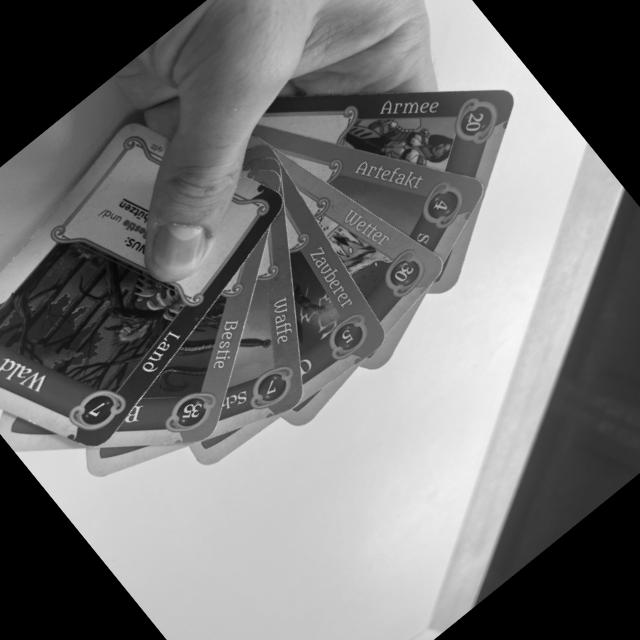Basilisk: (97, 230, 269, 450)
Blizzard: (279, 151, 450, 334)
Elemental Enchantress: (287, 173, 388, 404)
Forest: (0, 117, 290, 450)
Knights: (258, 93, 516, 178)
Shield Of Keth: (253, 123, 490, 259)
Sword of Keth: (214, 201, 302, 439)
